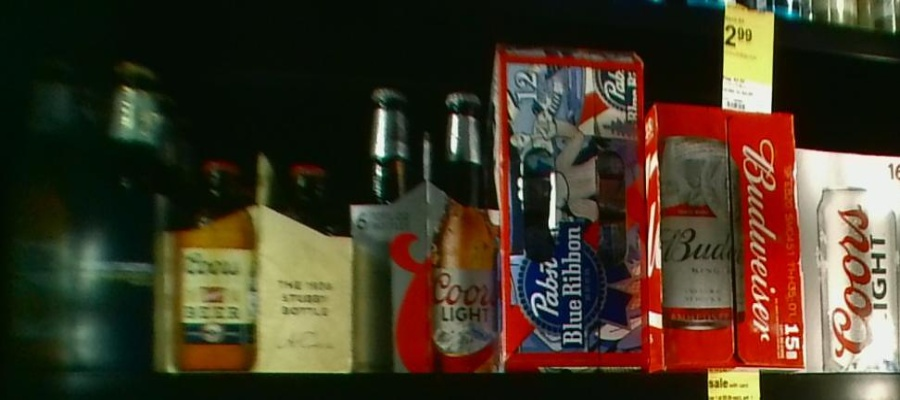bottle: (494, 42, 648, 373), (351, 79, 500, 375), (647, 100, 798, 372), (165, 151, 350, 370), (81, 54, 155, 374), (798, 148, 900, 373), (12, 59, 75, 367)
